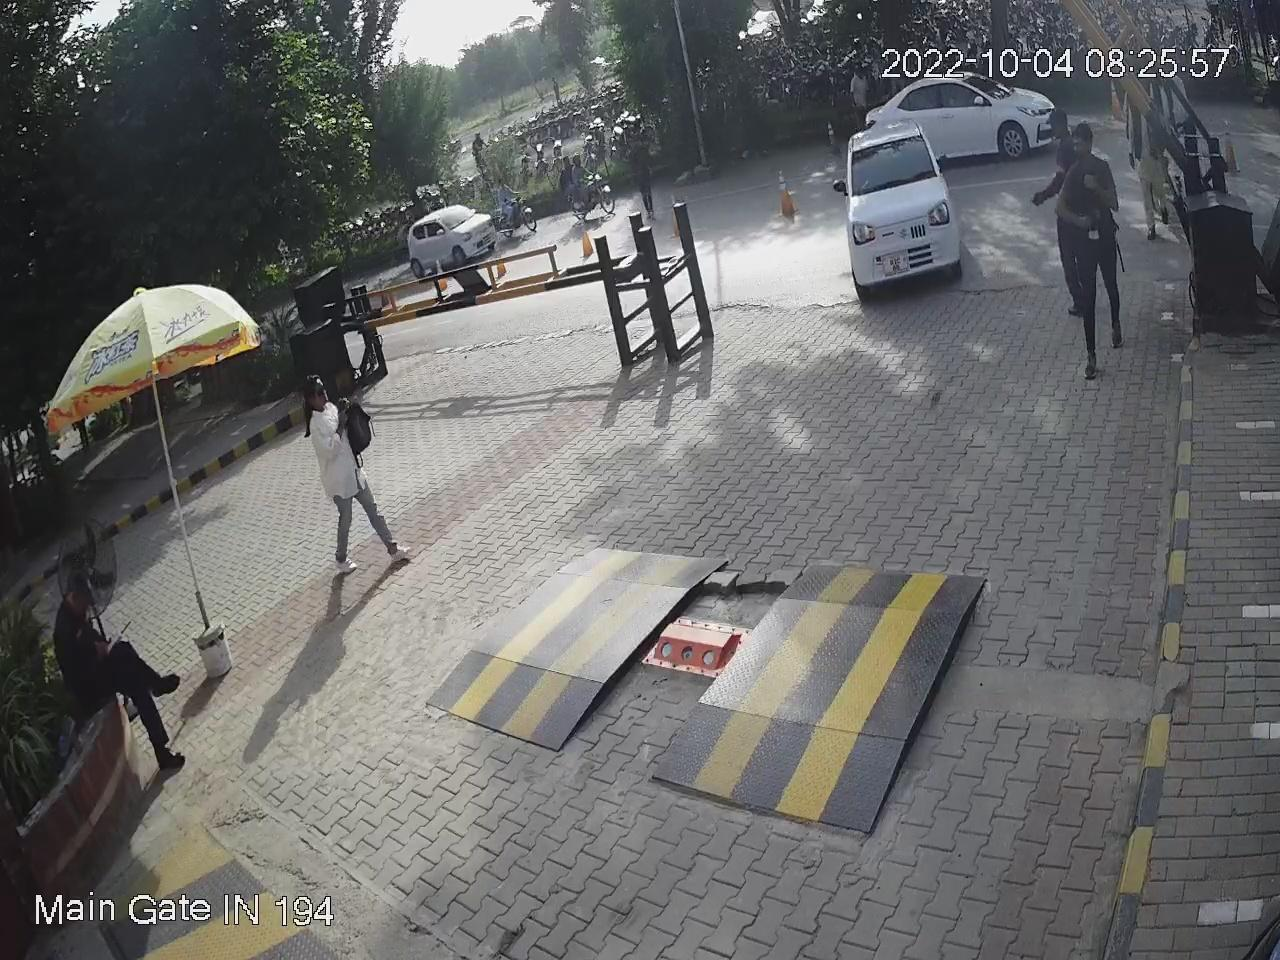windshield: (848, 132, 942, 205)
